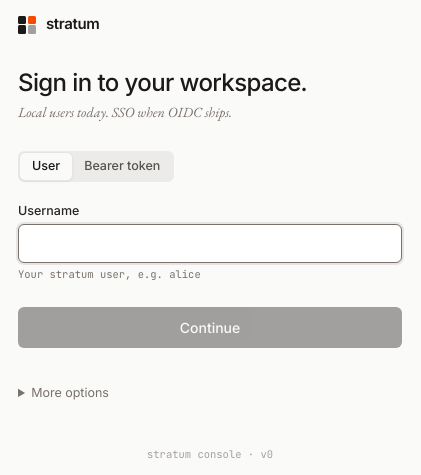
Test: LoginScreen — chrome › switching to the bearer tab swaps the visible field
The image size is (421, 475).
Click the tab "Bearer token": (122, 166) left=72, top=153, right=172, bottom=180
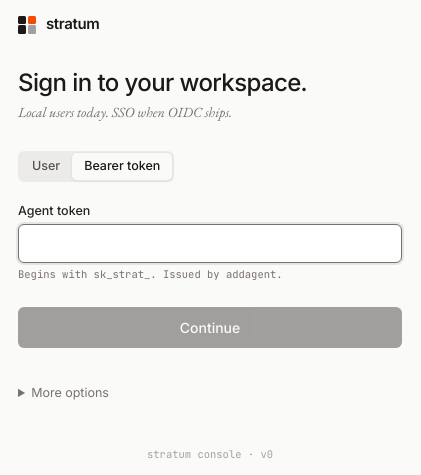
Check: the password field labelled "Agent token" is shown, box left=18, top=224, right=402, bottom=263
Check: the label labelled "Username" is gone
